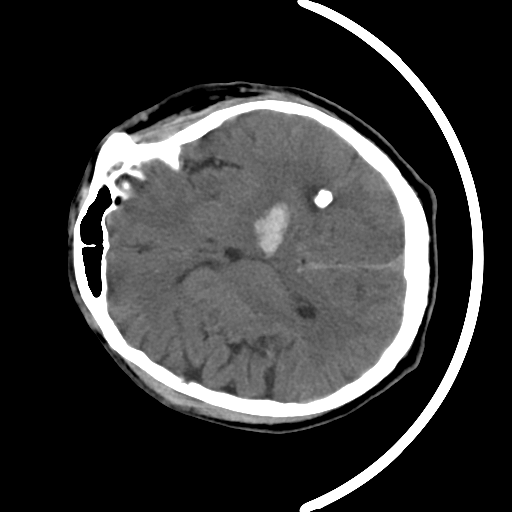a: (231, 182, 311, 273)
